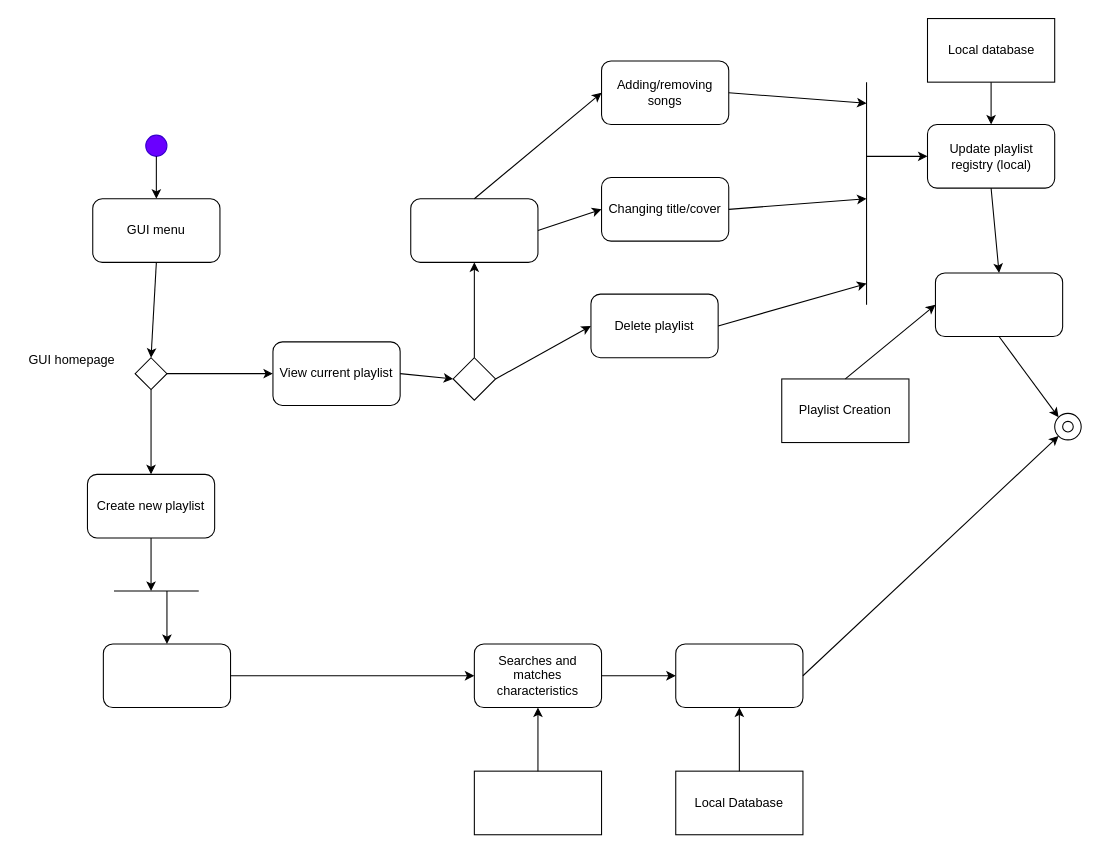
This 1099x853 diagram has some shape labels left out. The shapes that lost their labels are listed below. From the top down, each one's box as (x1, y1, x2, y2) in pixels, then its label:
(410, 198, 538, 262): Edit playlist
(934, 272, 1063, 337): Push changes to Spotify
(102, 643, 231, 708): User selects...
(675, 643, 803, 708): Pull song URI's into playlists
(473, 770, 602, 835): Data Retrieval
